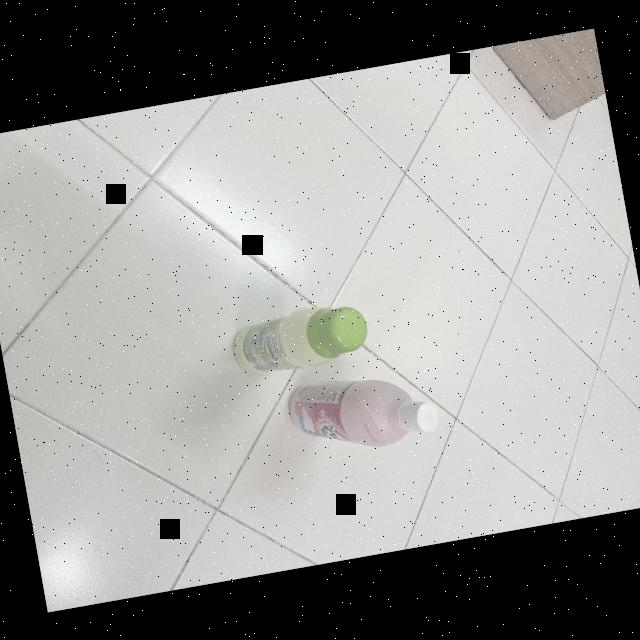chemical_plastic_bottle: (280, 359, 444, 466), (224, 294, 376, 382)
